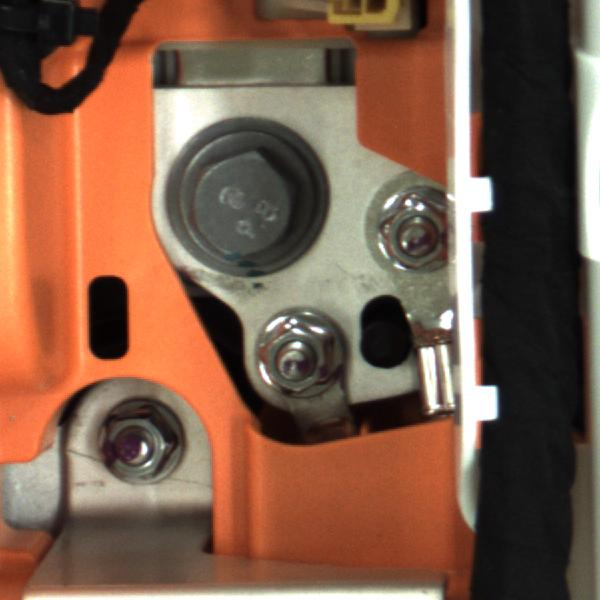nut_b: (166, 115, 329, 280)
screw_s: (93, 391, 207, 490), (248, 305, 342, 407), (364, 179, 457, 282)
